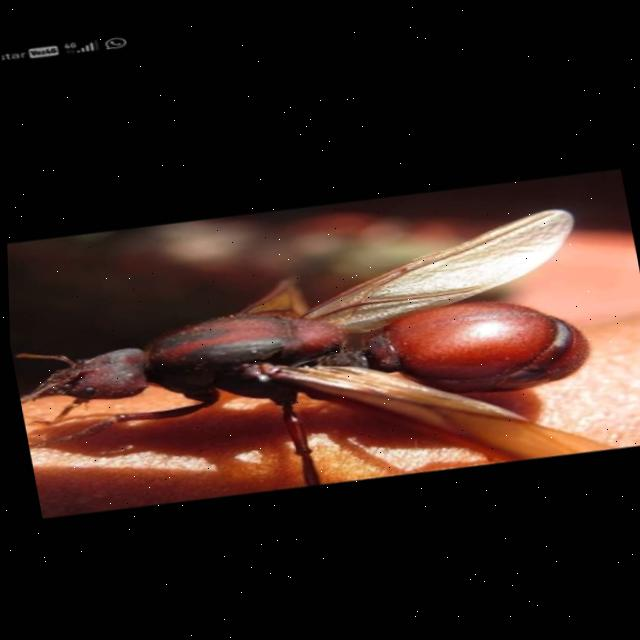Alive-Female-Alate: (4, 184, 615, 534)
